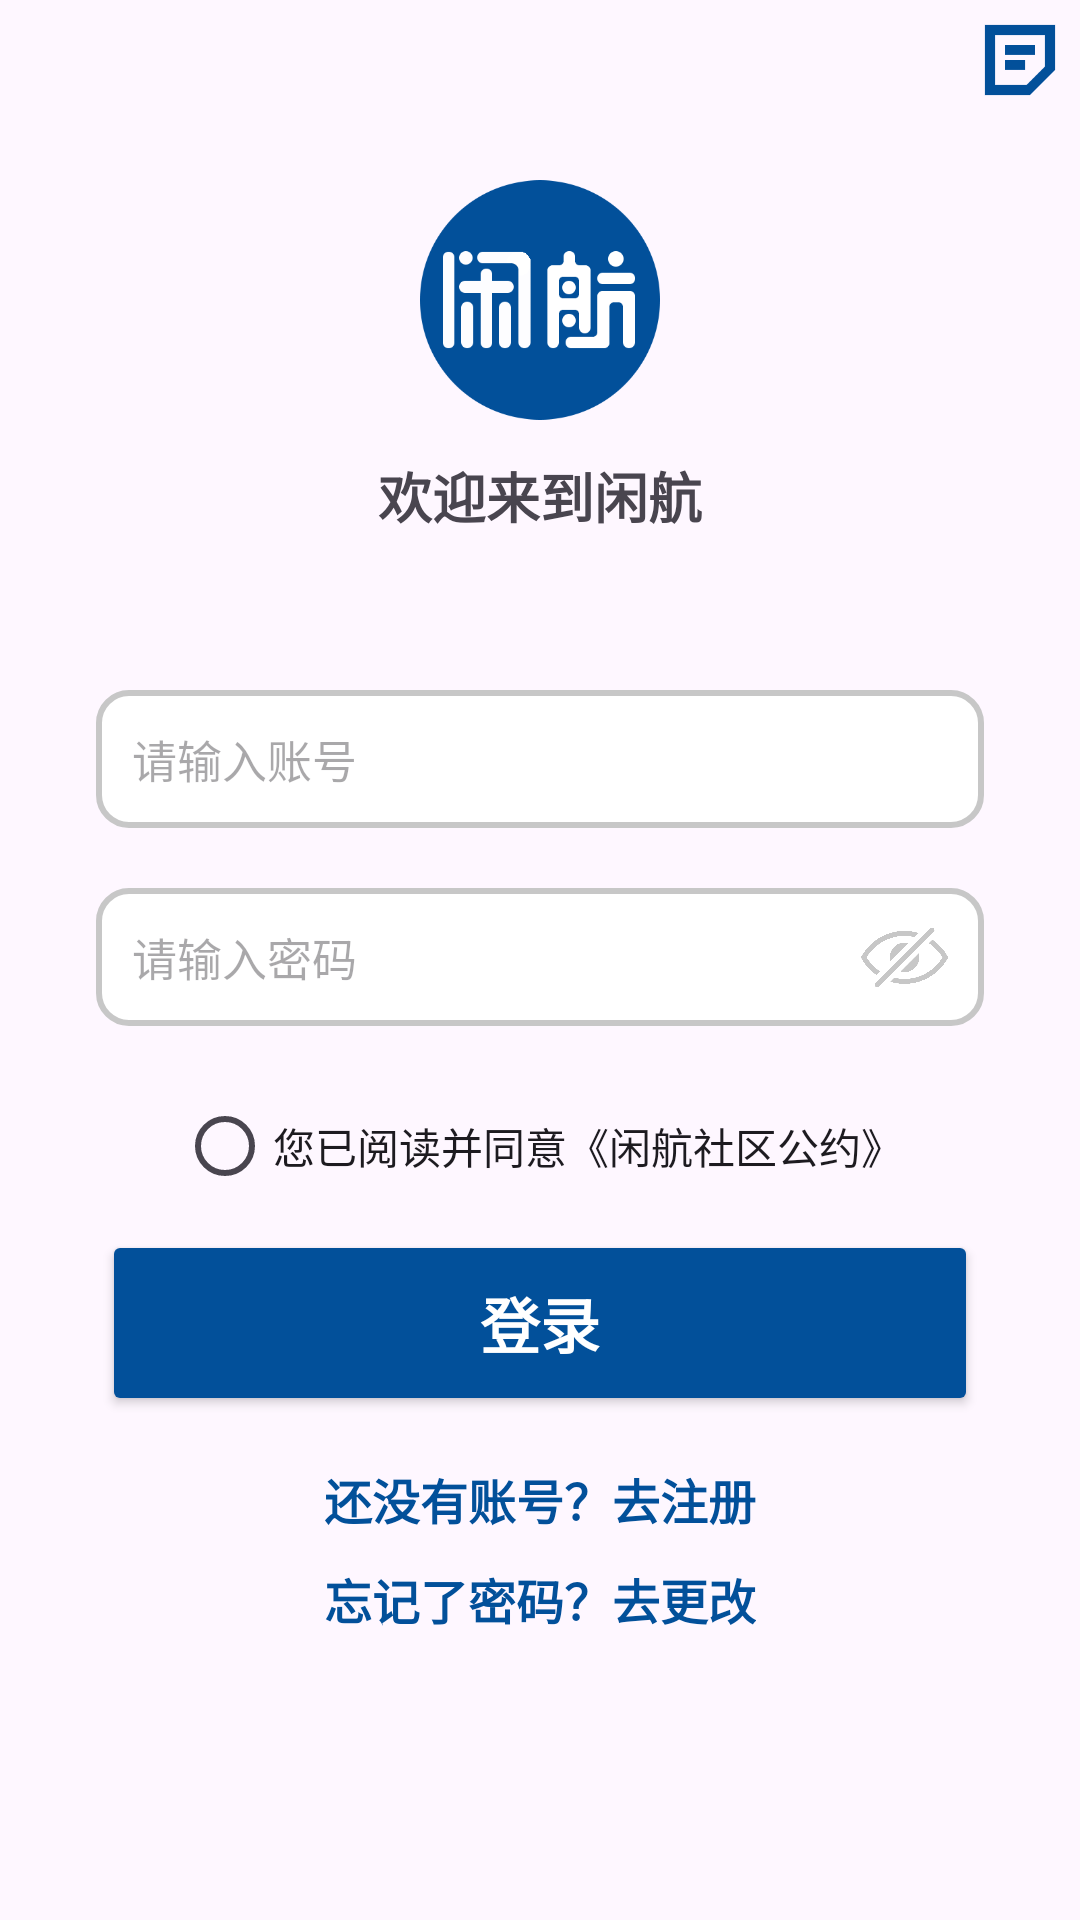

Icons on this 1080x1920 Android screen, each with the point to tap as [x,y]:
gongyue: [1020,60]
visibility off: [904,957]
